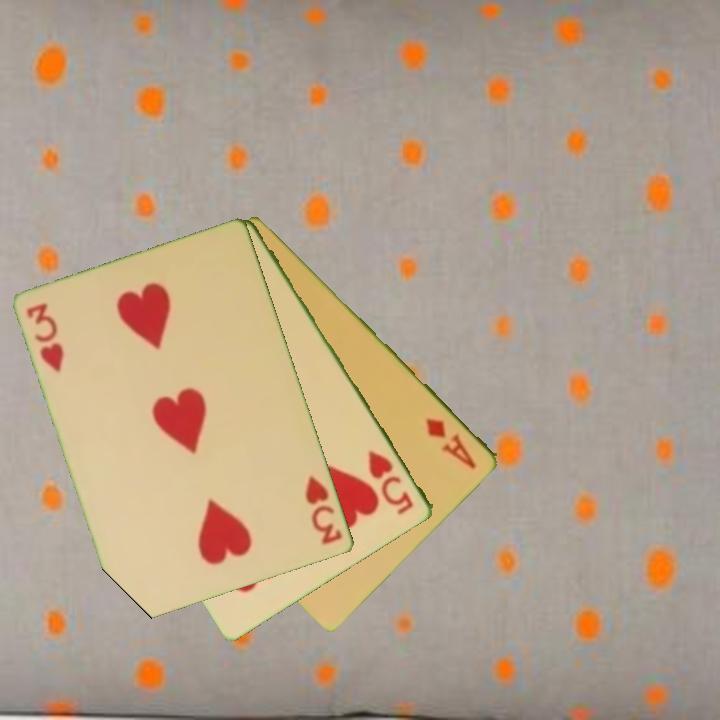3h: (23, 299, 68, 376), (302, 472, 346, 547)
5h: (365, 447, 417, 518)
Ad: (422, 414, 480, 473)
